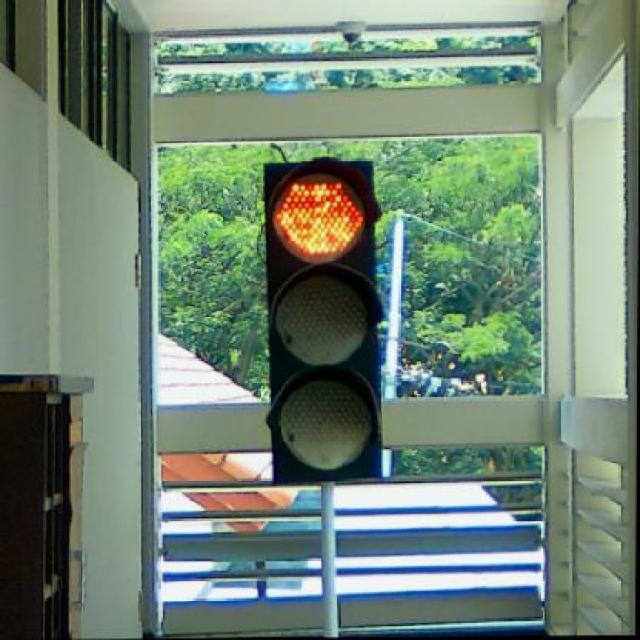traffic light: (263, 157, 384, 485)
